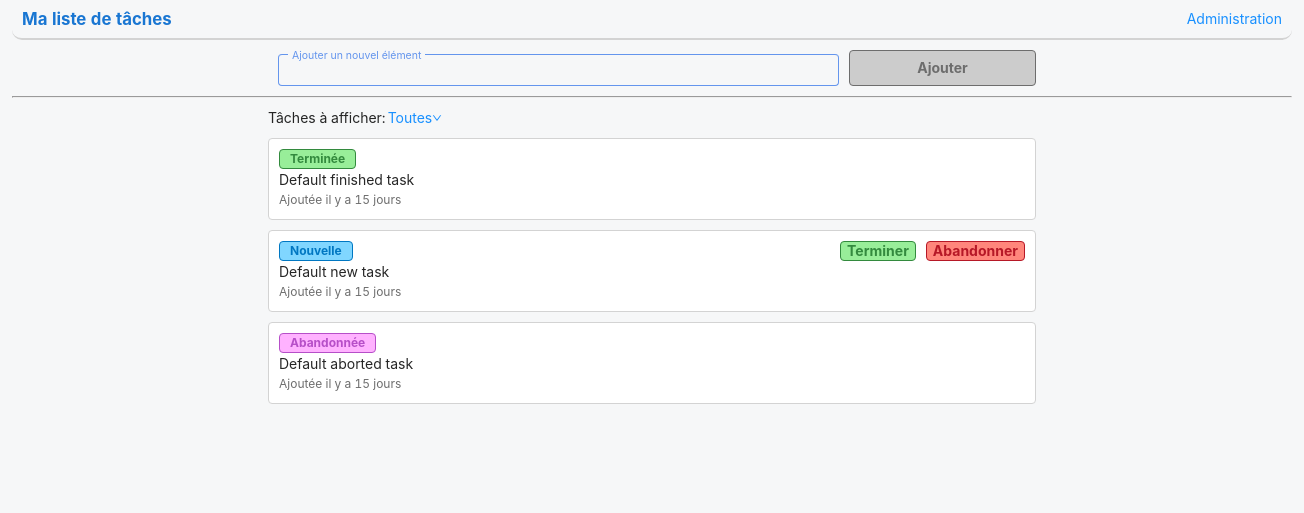
Test: Todo list app › Display new todo list after add element
In the field with class "add-todo-item-input": (559, 70) [278,54,839,86], type "Task added by Cypress :)"
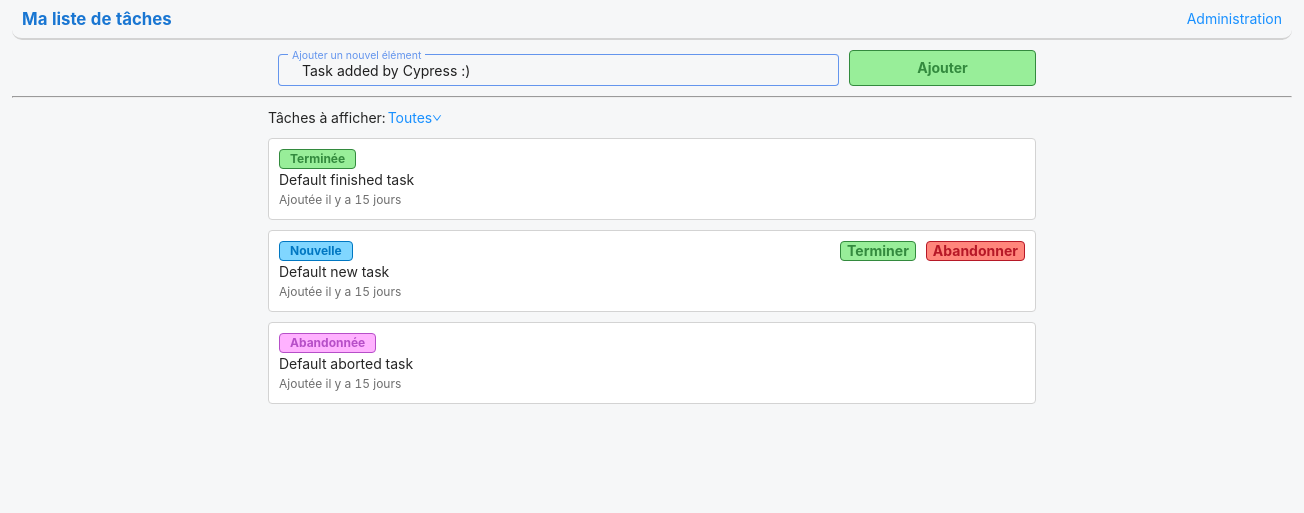
Press Enter in the field with class "add-todo-item-input", box [278,54,839,86]
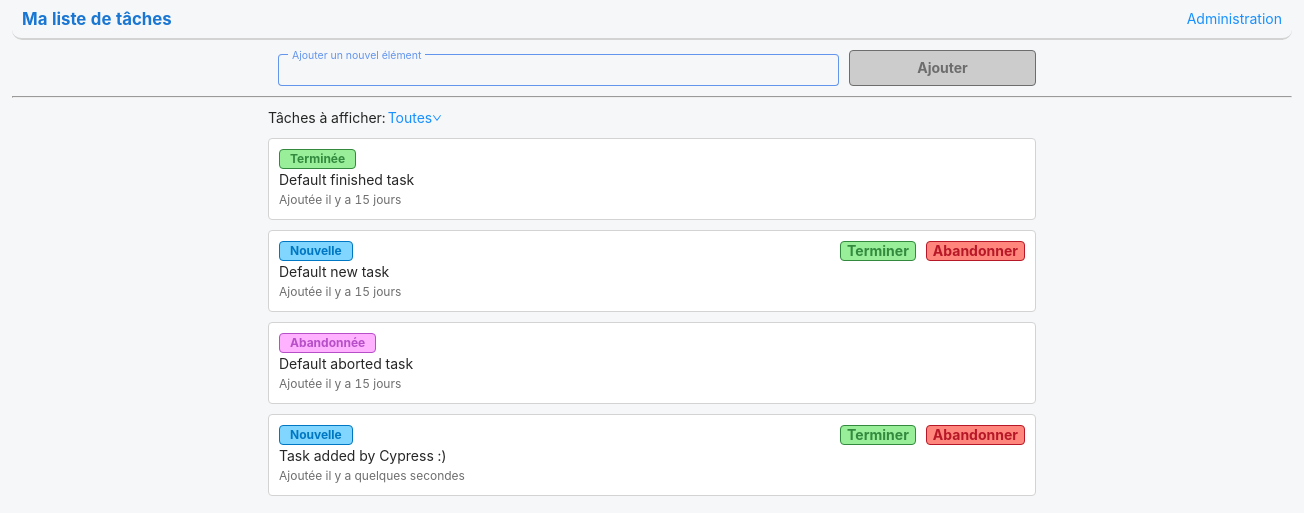
Click the link with class "filters-dropdown": (416, 118) [388,107,443,129]
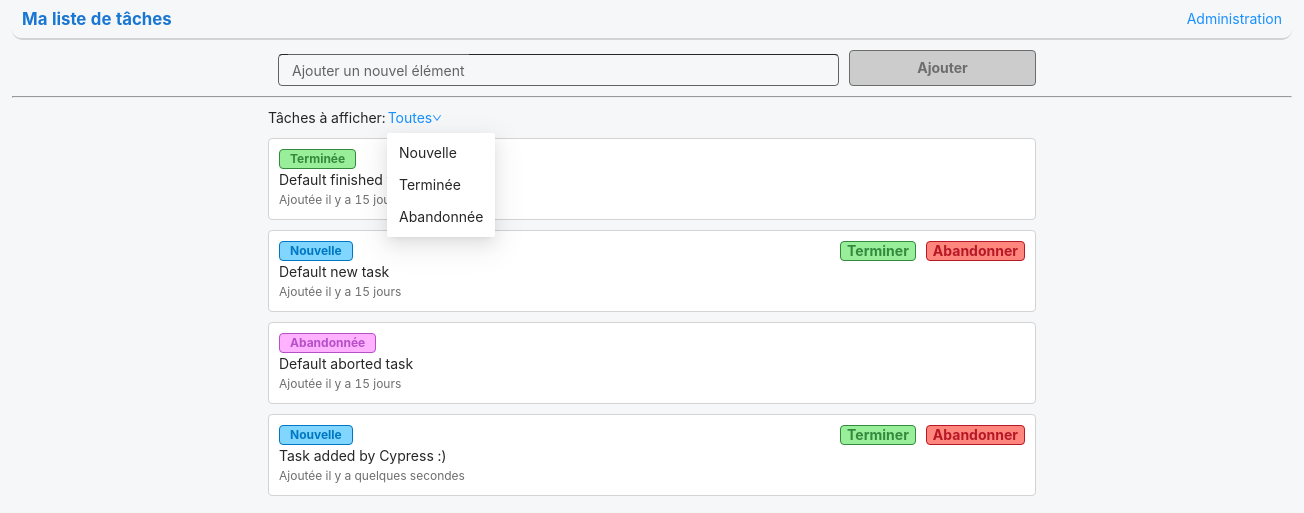
Click the link with class "new-filter-element": (428, 153) [399,144,457,161]
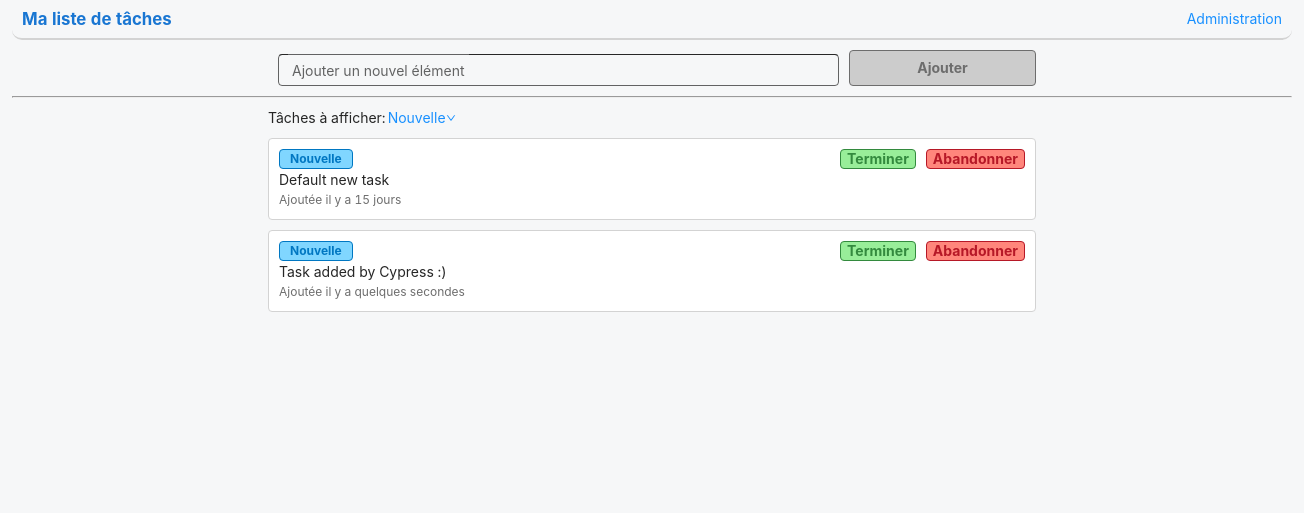
expect the number of elements with class "todo-item" is 2: met, box [268,138,1036,220]; [268,230,1036,312]
